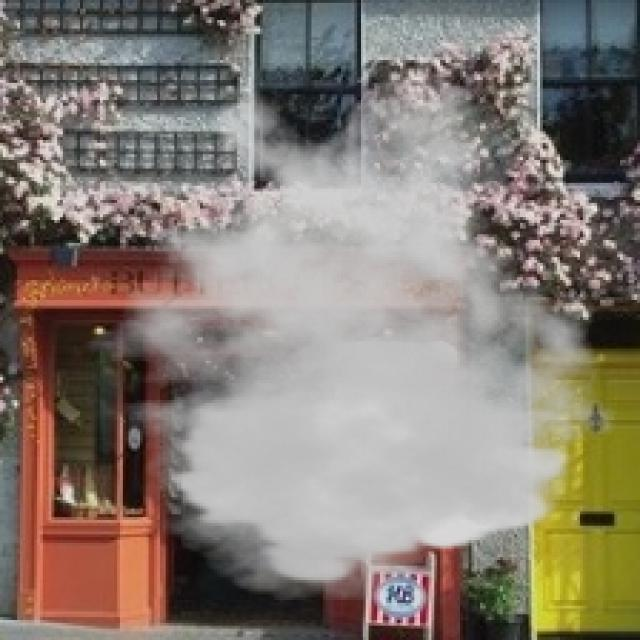Smoke: (60, 68, 626, 603)
